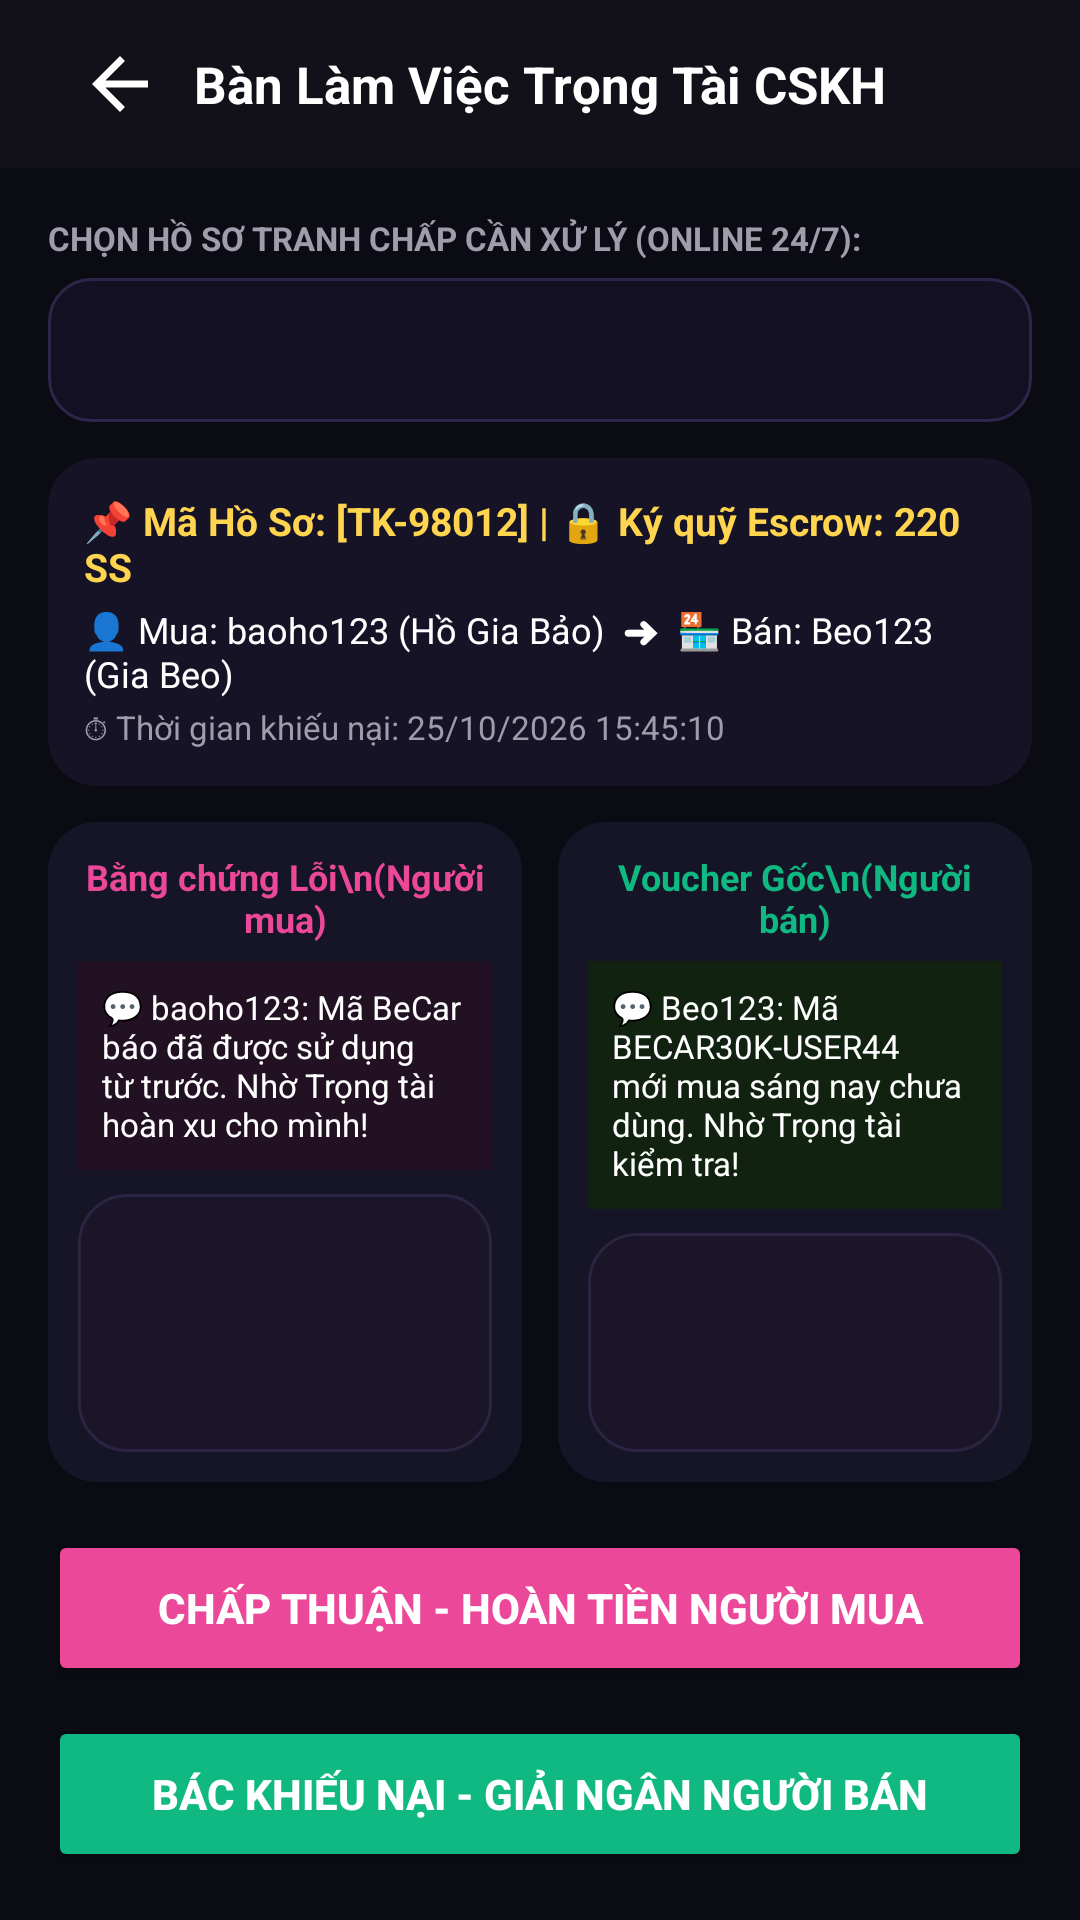

Named icons in this screenshot (1080px×1920px) and their centers, (x=x, y=y):
Quay lại: (x=120, y=84)
